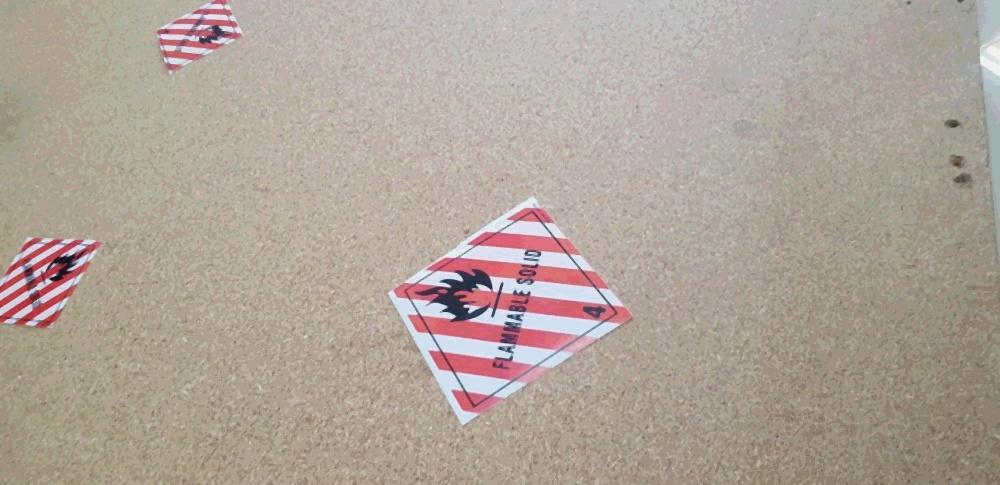flammable-solid: (386, 195, 635, 425), (1, 236, 101, 328), (152, 1, 246, 76)
